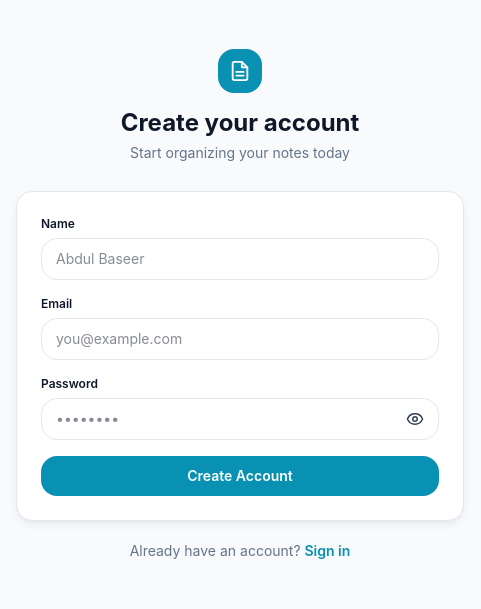
Test: SignupPage › shows validation errors when form is empty
Click the button "Create Account" at (240, 476), box top-left (41, 456), bottom-right (439, 496)
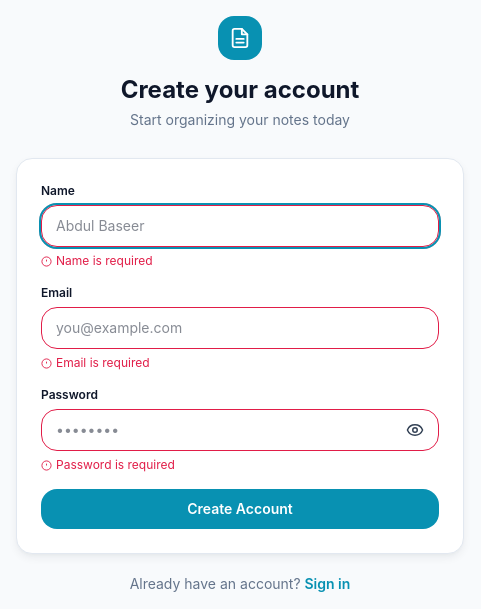
Check: the text "Name is required" is shown, box top-left (41, 253), bottom-right (153, 268)
Check: the text "Email is required" is shown, box top-left (41, 355), bottom-right (150, 370)
